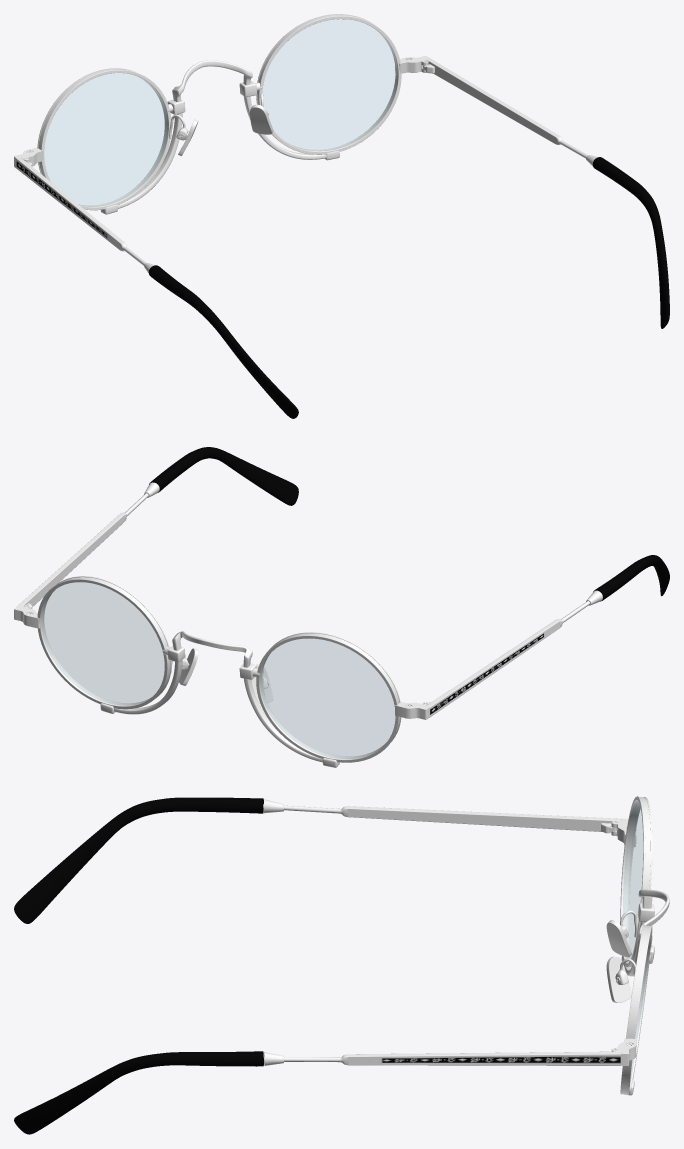
File: glass5.glb
3 views of the same model, one above another, from view 1: azimuth 30°, elevation 25°; view 2: azimuth 150°, elevation 25°; view 3: azimuth 270°, elevation 25° (orthographic). The views are drawn at different scales.
Parts seen in each view (by area): view 1: lens, Object_8, Object_5, Object_2, Object_6, Object_7, Object_3; view 2: lens, Object_8, Object_2, Object_5, Object_6, Object_3, Object_7; view 3: Object_5, Object_2, Object_8, lens, Object_6, Object_7, Object_3.
Part boxes in pixels (x1=…): lens: x1=44, y1=19, x2=396, y2=206; Object_8: x1=27, y1=14, x2=434, y2=210; Object_5: x1=148, y1=157, x2=669, y2=418; Object_2: x1=16, y1=58, x2=598, y2=273; Object_6: x1=100, y1=60, x2=339, y2=214; Object_7: x1=24, y1=58, x2=427, y2=159; Object_3: x1=14, y1=55, x2=428, y2=168; lens: x1=42, y1=582, x2=394, y2=758; Object_8: x1=27, y1=576, x2=431, y2=762; Object_2: x1=16, y1=482, x2=602, y2=717; Object_5: x1=149, y1=447, x2=669, y2=601; Object_6: x1=100, y1=631, x2=339, y2=767; Object_3: x1=14, y1=605, x2=429, y2=719; Object_7: x1=24, y1=605, x2=427, y2=707; Object_5: x1=14, y1=797, x2=263, y2=1134; Object_2: x1=263, y1=799, x2=621, y2=1065; Object_8: x1=601, y1=796, x2=652, y2=1095; lens: x1=623, y1=801, x2=649, y2=1080; Object_6: x1=615, y1=889, x2=669, y2=1095; Object_7: x1=606, y1=821, x2=633, y2=1051; Object_3: x1=611, y1=818, x2=636, y2=1065.
Bounding box in the file's own units: 1.19 × 0.339 × 1.26.
Materials: 6 (1 with a texture image).
